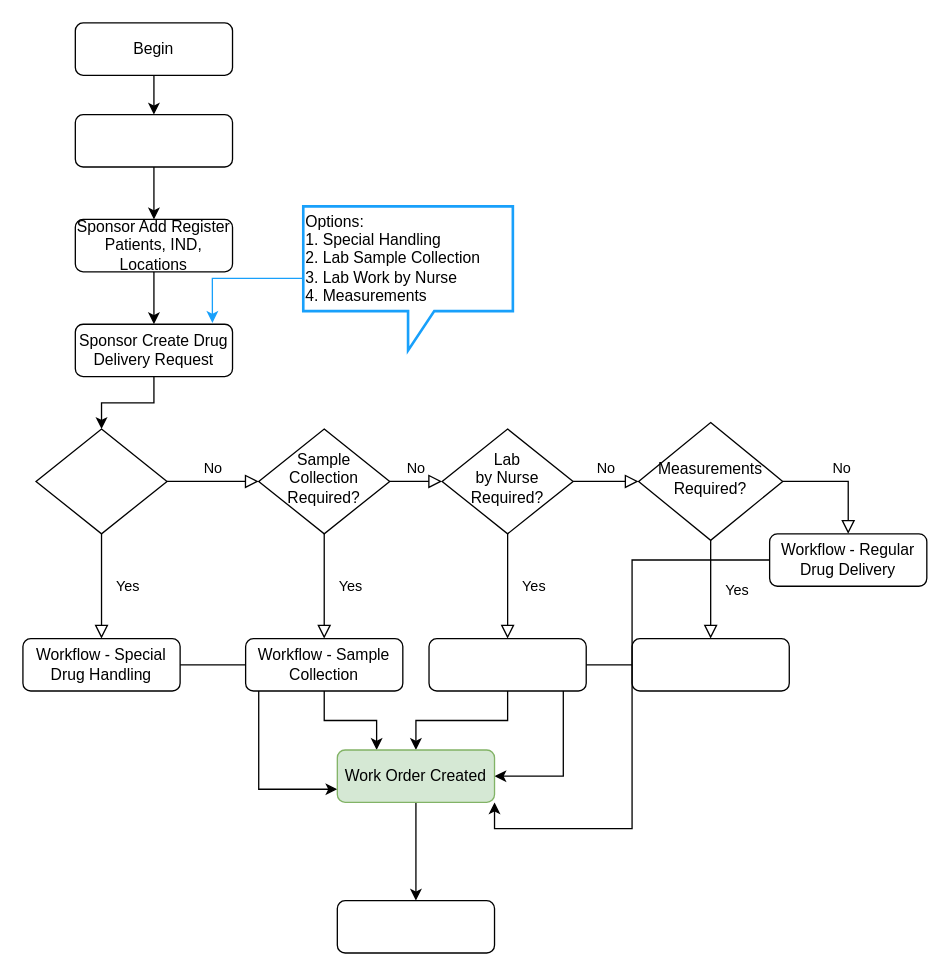
This 950x976 diagram has some shape labels left out. The shapes that lost their labels are listed below. From the top down, each one's centre as x and y in pixels, then its label:
At (153,140): "New Sponsor Registered".
At (101,481): "Special Handling Required?".
At (507,664): "Workflow - Nurse".
At (710,664): "Workflow - Measurement".
At (415,926): "End".
